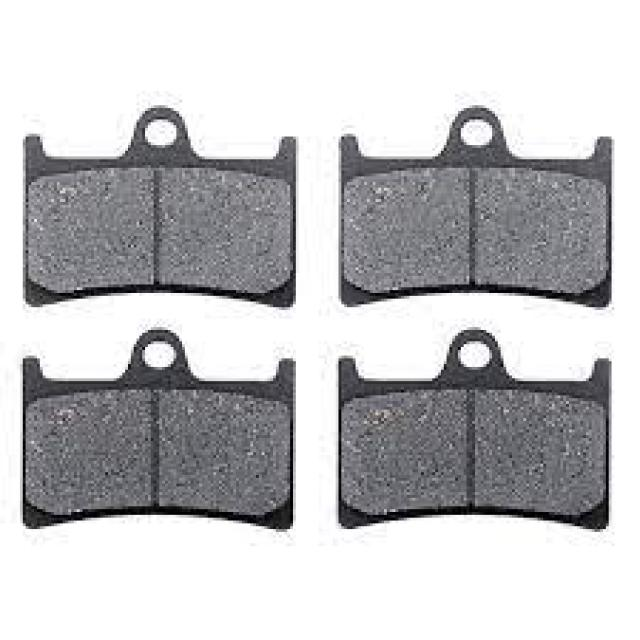brake_pad: (325, 100, 619, 319), (14, 102, 313, 313), (12, 322, 300, 538), (331, 325, 616, 541)
